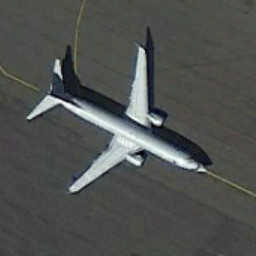Airplane: (19, 23, 216, 200)
